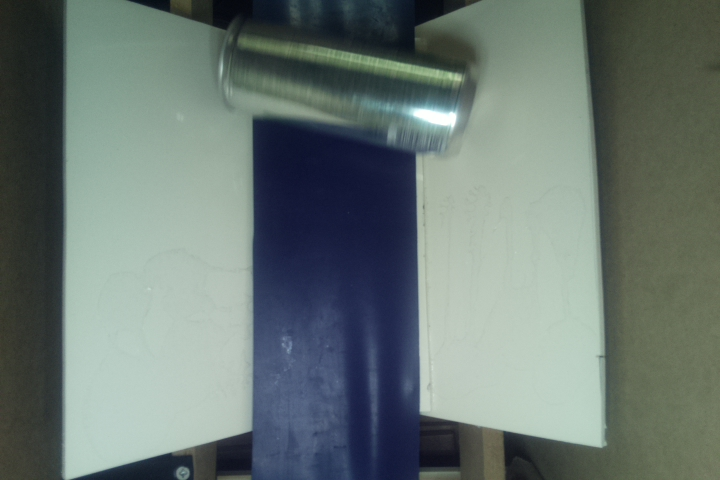can: (218, 18, 475, 158)
